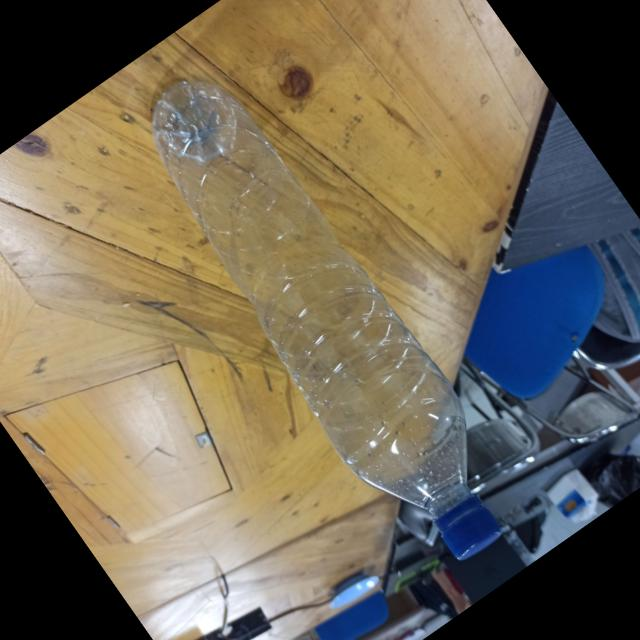BotolPlastik: (109, 51, 540, 588)
